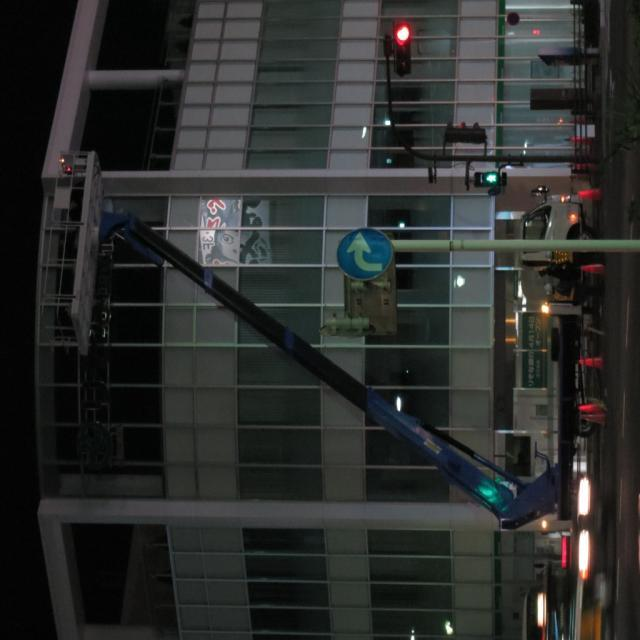traffic light: (396, 22, 412, 73)
